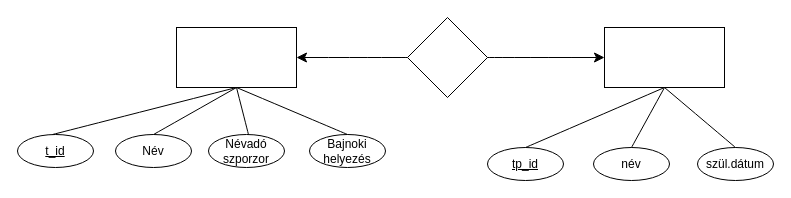
Some shapes in this 791 by 198 pixel diagram are drawn without their labels. The centre of each missing label's shape, as x and y in pixels:
"F1 Team" belongs at [236,57].
"F1 Team Principal" belongs at [664,57].
